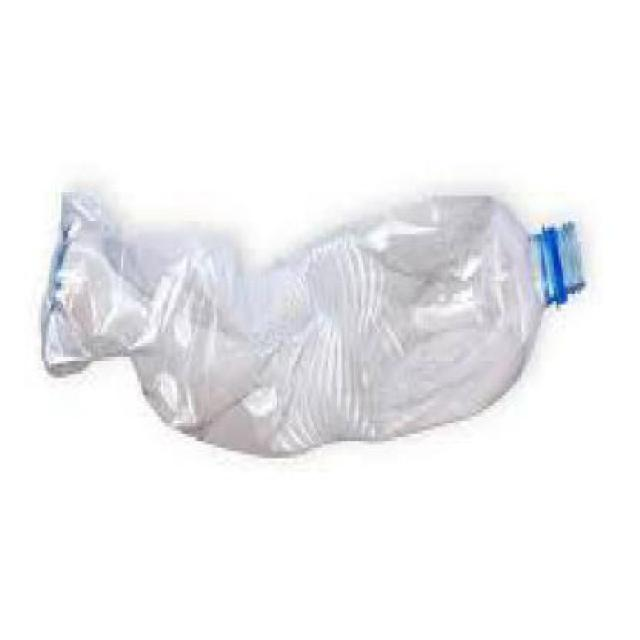PLASTIC: (44, 196, 588, 462)
